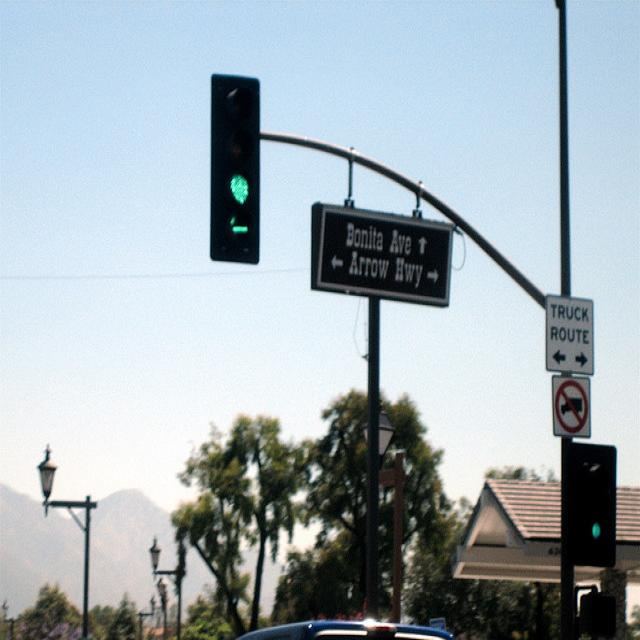Vehicle: (232, 619, 459, 640)
